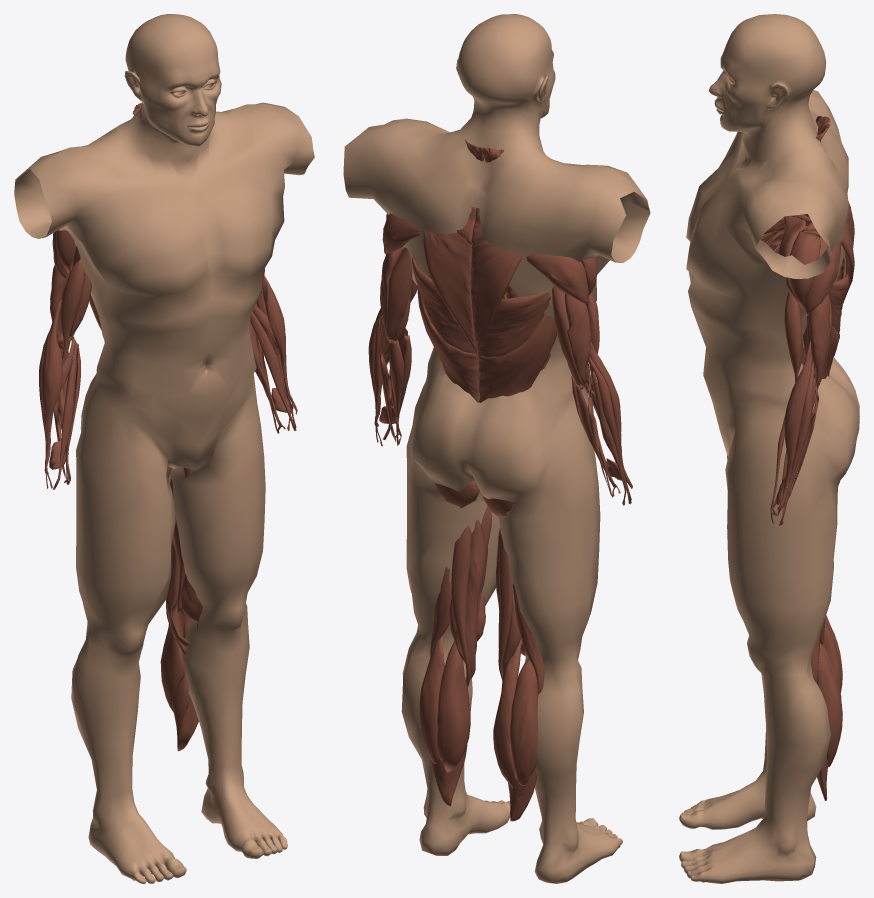
Rendered from body.glb.
3 renders of one model, left to right at view 1: azimuth 30°, elevation 25°; view 2: azimuth 150°, elevation 25°; view 3: azimuth 270°, elevation 25°, orthographic. The views are drawn at different scales.
Parts seen in each view (by area): view 1: Body, Brachioradialis muscle.005, Medial head of gastrocnemius, Long head of biceps brachii.003, Soleus muscle, Brachioradialis muscle.002, Flexor carpi radialis, Flexor carpi radialis.001, Semimembranosus muscle, Vastus medialis muscle, Acromial part of deltoid muscle.003; view 2: Body, Latissimus dorsi muscle.005, Latissimus dorsi muscle.002, Descending part of trapezius muscle, Medial head of gastrocnemius, Descending part of trapezius muscle.003, Lateral head of gastrocnemius.003, Semimembranosus muscle, Medial head of gastrocnemius.003, Lateral head of gastrocnemius, Semitendinosus muscle, Scapular spinal part of deltoid muscle.003 (+16 smaller); view 3: Body, Brachioradialis muscle.002, Lateral head of gastrocnemius, Lateral head of triceps brachii, Acromial part of deltoid muscle, Scapular spinal part of deltoid muscle, Latissimus dorsi muscle.002, Long head of biceps brachii, Extensor carpi radialis longus.002, Clavicular part of deltoid muscle, Medial head of gastrocnemius.003, Descending part of trapezius muscle (+2 smaller).
Part boxes in pixels (x1,y1,x2,y2): Body: (14, 14, 314, 883); Brachioradialis muscle.005: (42, 299, 63, 474); Medial head of gastrocnemius: (160, 606, 185, 711); Long head of biceps brachii.003: (60, 261, 84, 363); Soleus muscle: (172, 675, 198, 751); Brachioradialis muscle.002: (262, 275, 297, 414); Flexor carpi radialis: (250, 312, 296, 430); Flexor carpi radialis.001: (52, 340, 77, 489); Semimembranosus muscle: (166, 536, 188, 647); Vastus medialis muscle: (180, 574, 202, 623); Acromial part of deltoid muscle.003: (56, 230, 75, 272); Body: (343, 14, 650, 883); Latissimus dorsi muscle.005: (478, 290, 556, 402); Latissimus dorsi muscle.002: (412, 257, 478, 402); Descending part of trapezius muscle: (423, 230, 477, 355); Medial head of gastrocnemius: (437, 641, 470, 772); Descending part of trapezius muscle.003: (471, 239, 521, 356); Lateral head of gastrocnemius.003: (510, 659, 538, 785); Semimembranosus muscle: (449, 519, 484, 678); Medial head of gastrocnemius.003: (493, 638, 522, 788); Lateral head of gastrocnemius: (419, 635, 444, 764); Semitendinosus muscle: (451, 526, 471, 686); Scapular spinal part of deltoid muscle.003: (526, 254, 588, 306); Body: (679, 14, 859, 883); Brachioradialis muscle.002: (777, 338, 812, 511); Lateral head of gastrocnemius: (817, 648, 842, 767); Lateral head of triceps brachii: (808, 294, 831, 389); Acromial part of deltoid muscle: (789, 231, 820, 308); Scapular spinal part of deltoid muscle: (804, 236, 840, 316); Latissimus dorsi muscle.002: (803, 273, 849, 378); Long head of biceps brachii: (784, 291, 802, 382); Extensor carpi radialis longus.002: (779, 361, 813, 525); Clavicular part of deltoid muscle: (779, 215, 805, 304); Medial head of gastrocnemius.003: (822, 622, 841, 692); Descending part of trapezius muscle: (841, 220, 854, 302).
Bounding box in the file's own units: 0.634 × 1.8 × 0.3557.
